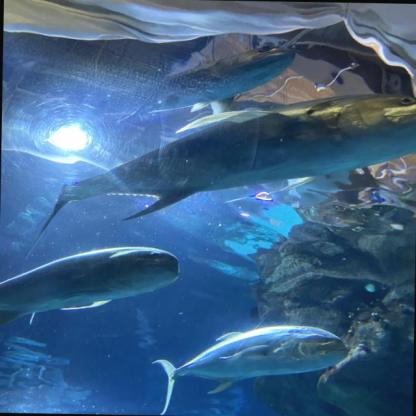fish: (26, 87, 415, 227), (152, 323, 347, 415), (0, 244, 179, 333)
